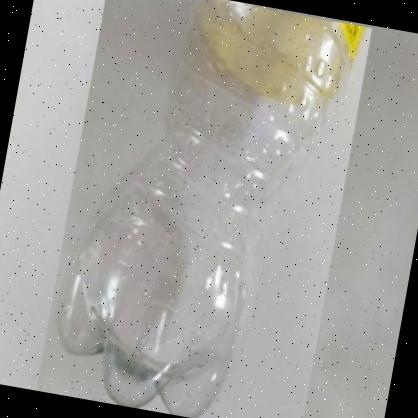bottle: (36, 0, 372, 418)
